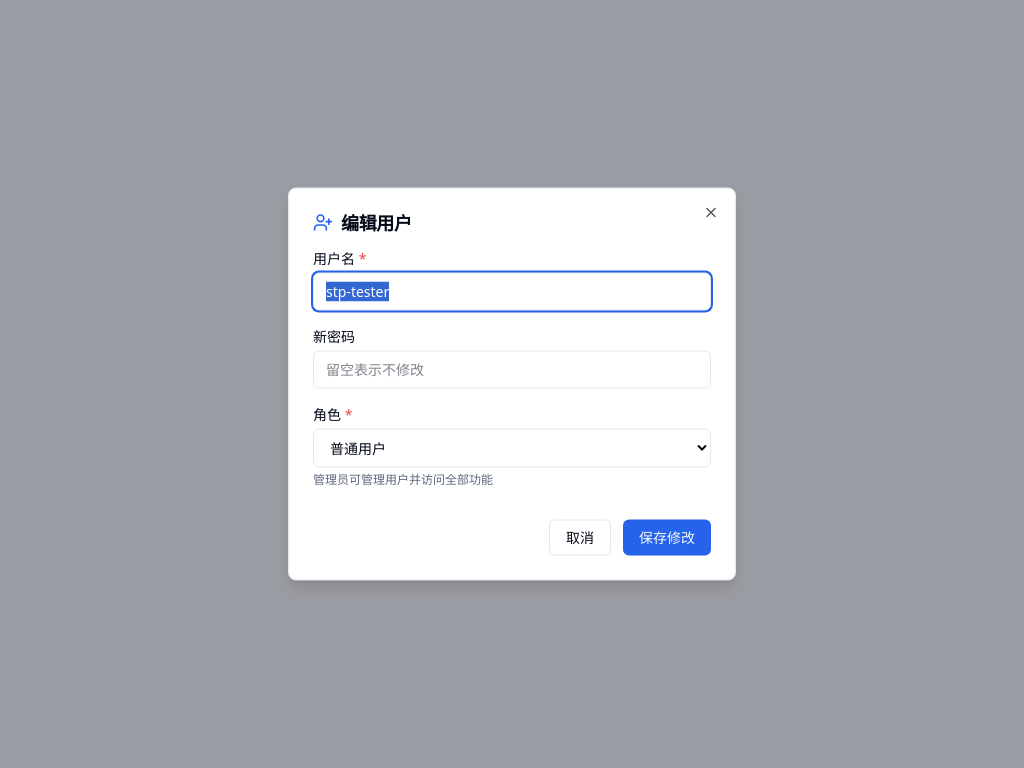
Test case: UserModal 编辑态自动填充（#2637） › 人工键入新密码 → 确认框立刻出现（不等到提交）
Expected: the field labelled "确认密码" is not shown
Note: 浏览器键入每敲一键都会派发**冒泡**的 input 事件（管理器直写那条不冒泡，见上）
In the password field labelled "新密码": [512, 370] box [313,350,711,388], type "tPe-KLU-3Uw-3Fb"
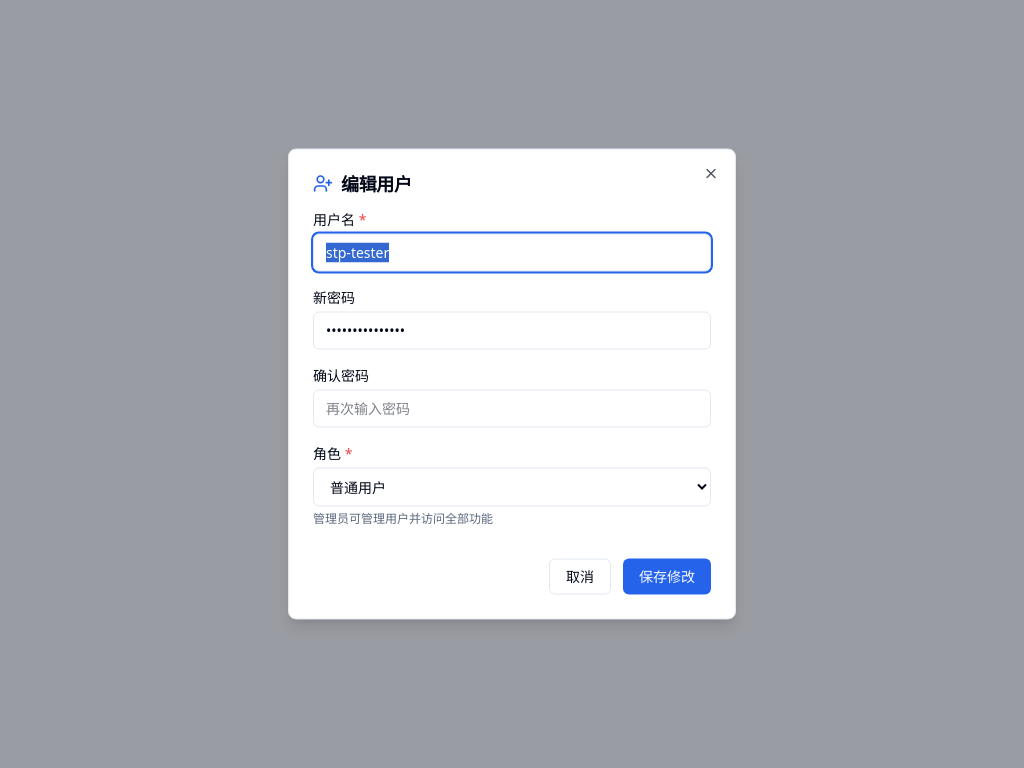
Expected: the password field labelled "确认密码" is shown, [313,390,711,428]
